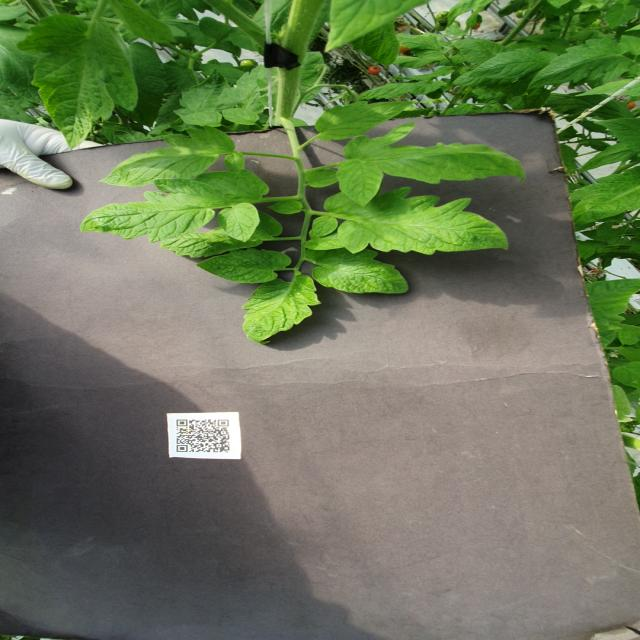Healthy Leaf: (16, 14, 140, 151), (335, 122, 529, 207), (76, 171, 270, 246), (313, 186, 515, 257), (100, 125, 248, 187), (237, 275, 327, 347), (526, 38, 633, 91), (306, 249, 414, 298), (570, 167, 640, 228), (316, 100, 420, 139), (196, 249, 292, 286), (174, 68, 231, 116), (471, 49, 560, 79), (578, 143, 640, 176), (593, 116, 640, 152), (221, 108, 260, 127), (180, 112, 223, 128)
